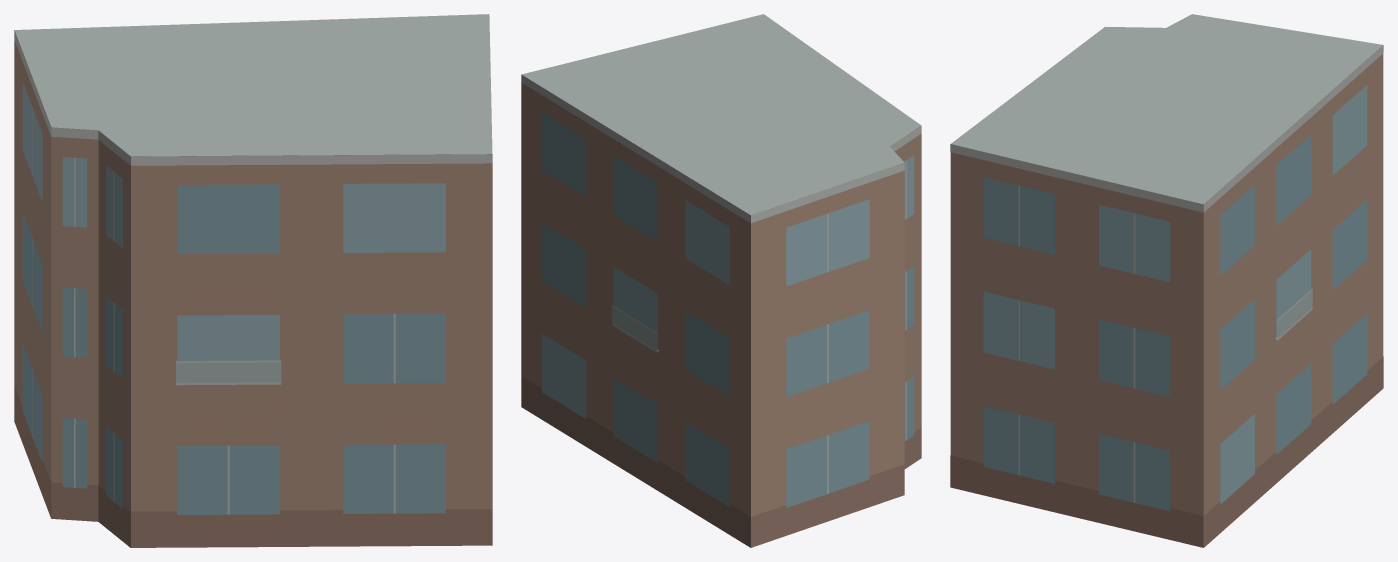
Rendered from survey-upis-32669235.glb.
3 views of the same model, side by side, from view 1: azimuth 30°, elevation 25°; view 2: azimuth 150°, elevation 25°; view 3: azimuth 270°, elevation 25° (orthographic). The views are drawn at different scales.
Parts seen in each view (by area): view 1: survey-upis-32669235.tmp; view 2: survey-upis-32669235.tmp; view 3: survey-upis-32669235.tmp.
Boxes of the visible parts, bbox=[...] form: survey-upis-32669235.tmp: bbox=[14, 14, 492, 547]; survey-upis-32669235.tmp: bbox=[521, 14, 921, 547]; survey-upis-32669235.tmp: bbox=[950, 14, 1383, 547].
Size of the model in its own units: 12.14 by 10.2 by 11.66.
